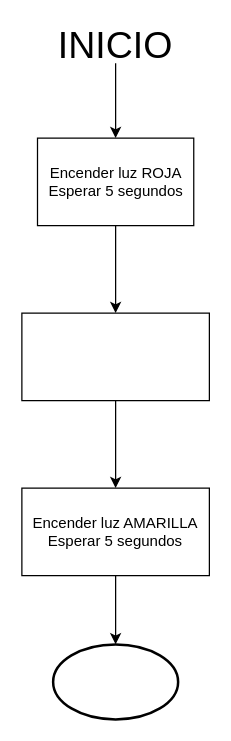
The diagram is 231 pixels wide and 741 high, and some of its shapes have lost their labels. Each missing label, with the box of its shape:
Encender luz VERDE Esperar 5 segundos: (21, 312, 209, 401)
Repetir la secuencia: (51, 642, 179, 720)
